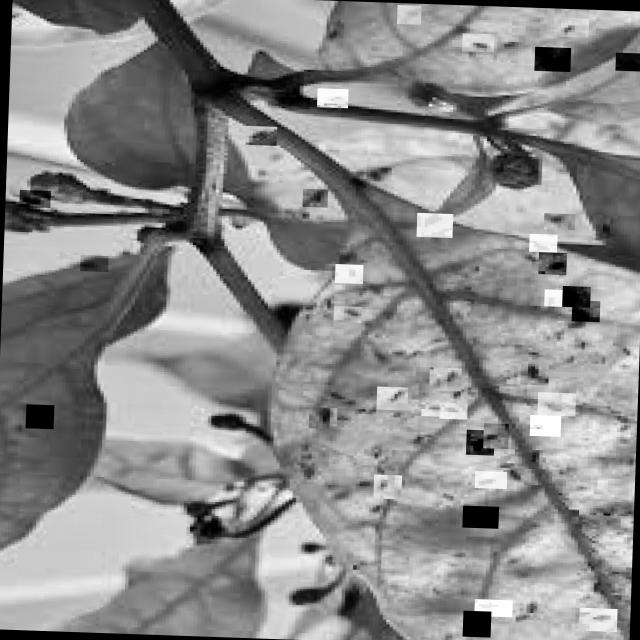aphid: (533, 46, 570, 72), (415, 212, 452, 238), (577, 608, 616, 632), (536, 392, 574, 416), (460, 505, 498, 528), (461, 610, 490, 637), (375, 386, 407, 410), (428, 367, 460, 391), (464, 429, 493, 455), (371, 474, 400, 499), (472, 598, 512, 616), (528, 414, 560, 436), (24, 404, 53, 428), (519, 361, 548, 385), (482, 422, 508, 448), (536, 252, 566, 274), (316, 88, 348, 108), (513, 449, 545, 469), (244, 126, 276, 146), (570, 300, 599, 322), (307, 406, 336, 428), (560, 286, 589, 308), (461, 33, 494, 52), (559, 17, 588, 37), (333, 264, 362, 284), (542, 212, 574, 230), (18, 190, 50, 208), (473, 471, 506, 488), (527, 233, 556, 252), (78, 254, 108, 272), (613, 52, 640, 71), (395, 4, 420, 24), (301, 188, 327, 207), (499, 34, 528, 51), (437, 402, 466, 419), (542, 288, 568, 306), (332, 306, 361, 322), (365, 166, 390, 182), (420, 402, 445, 416)
